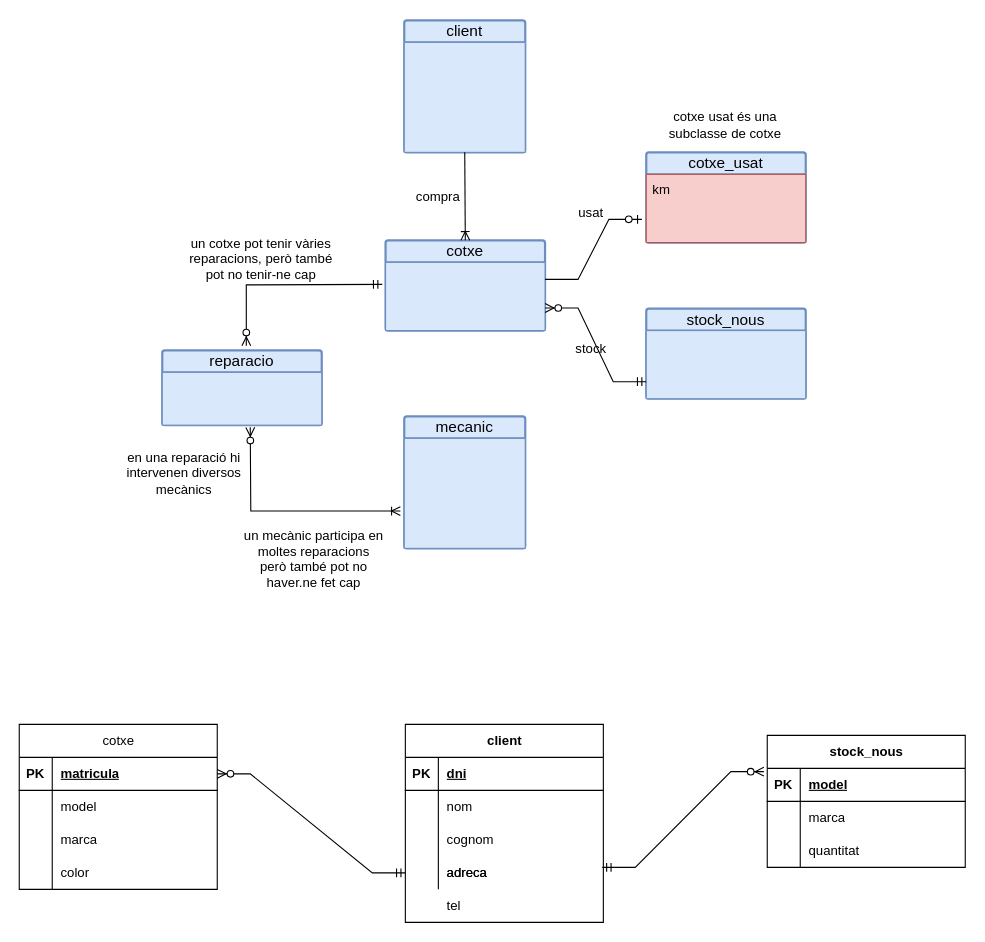
Image size: 985x942. Some labels were removed from this diagram. Here are the shapes that lost their labels. From the top down, the centre of each, then its label:
pixel 464 96: dni nom cognoms adreca tel
pixel 464 296: matricula model marca color
pixel 725 364: model marca quantitat
pixel 241 398: num_reparacio data_reparacio hores_invertides
pixel 464 492: dni nom cognoms data_contractació sou
